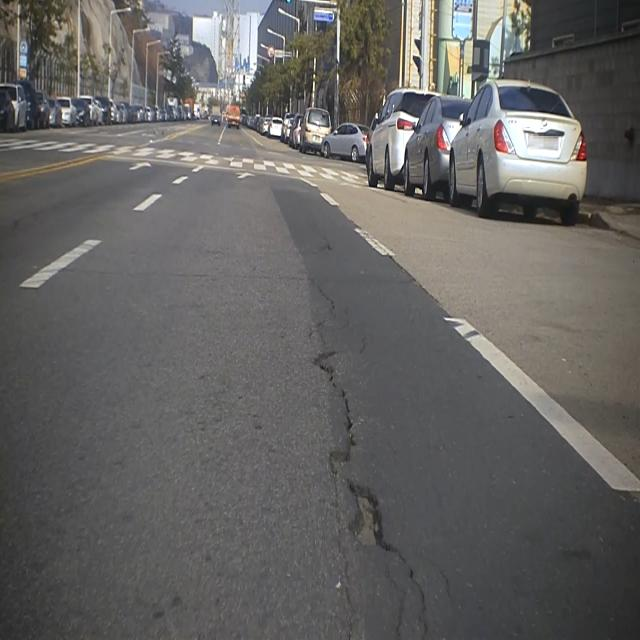Pothole: (307, 343, 365, 487), (343, 474, 401, 564)
